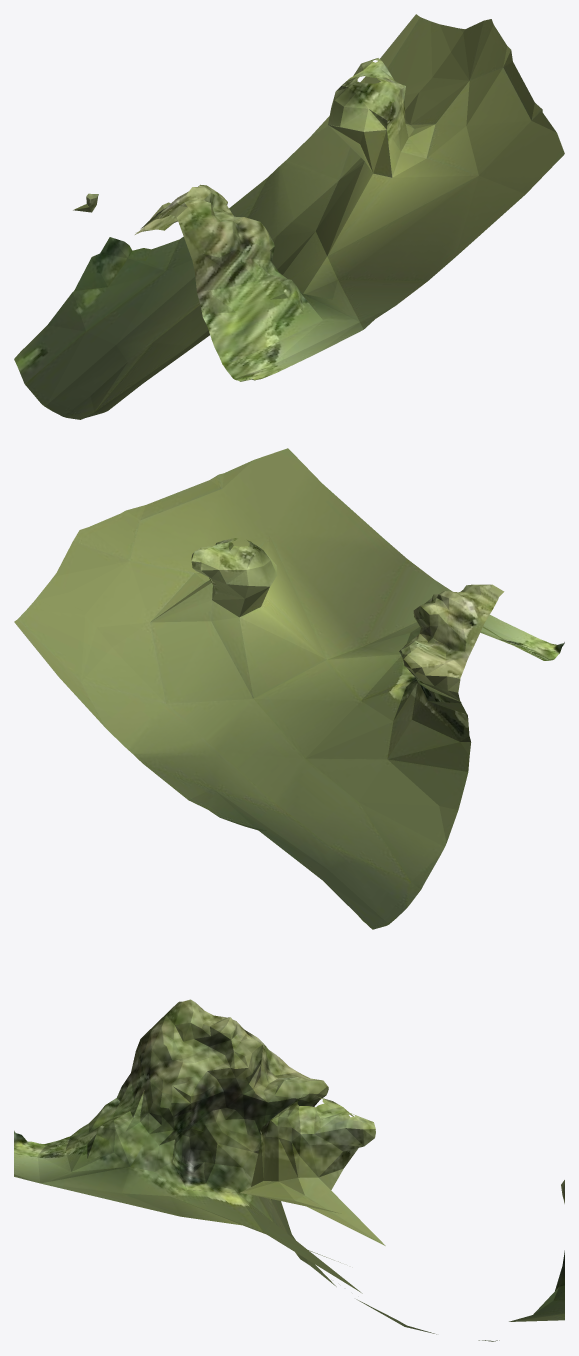
3 views of the same model, one above another, from view 1: azimuth 30°, elevation 25°; view 2: azimuth 150°, elevation 25°; view 3: azimuth 270°, elevation 25° (orthographic). The views are drawn at different scales.
Bounding box in the file's own units: 26.11 × 20.01 × 26.11.
3 materials, 3 textured.
